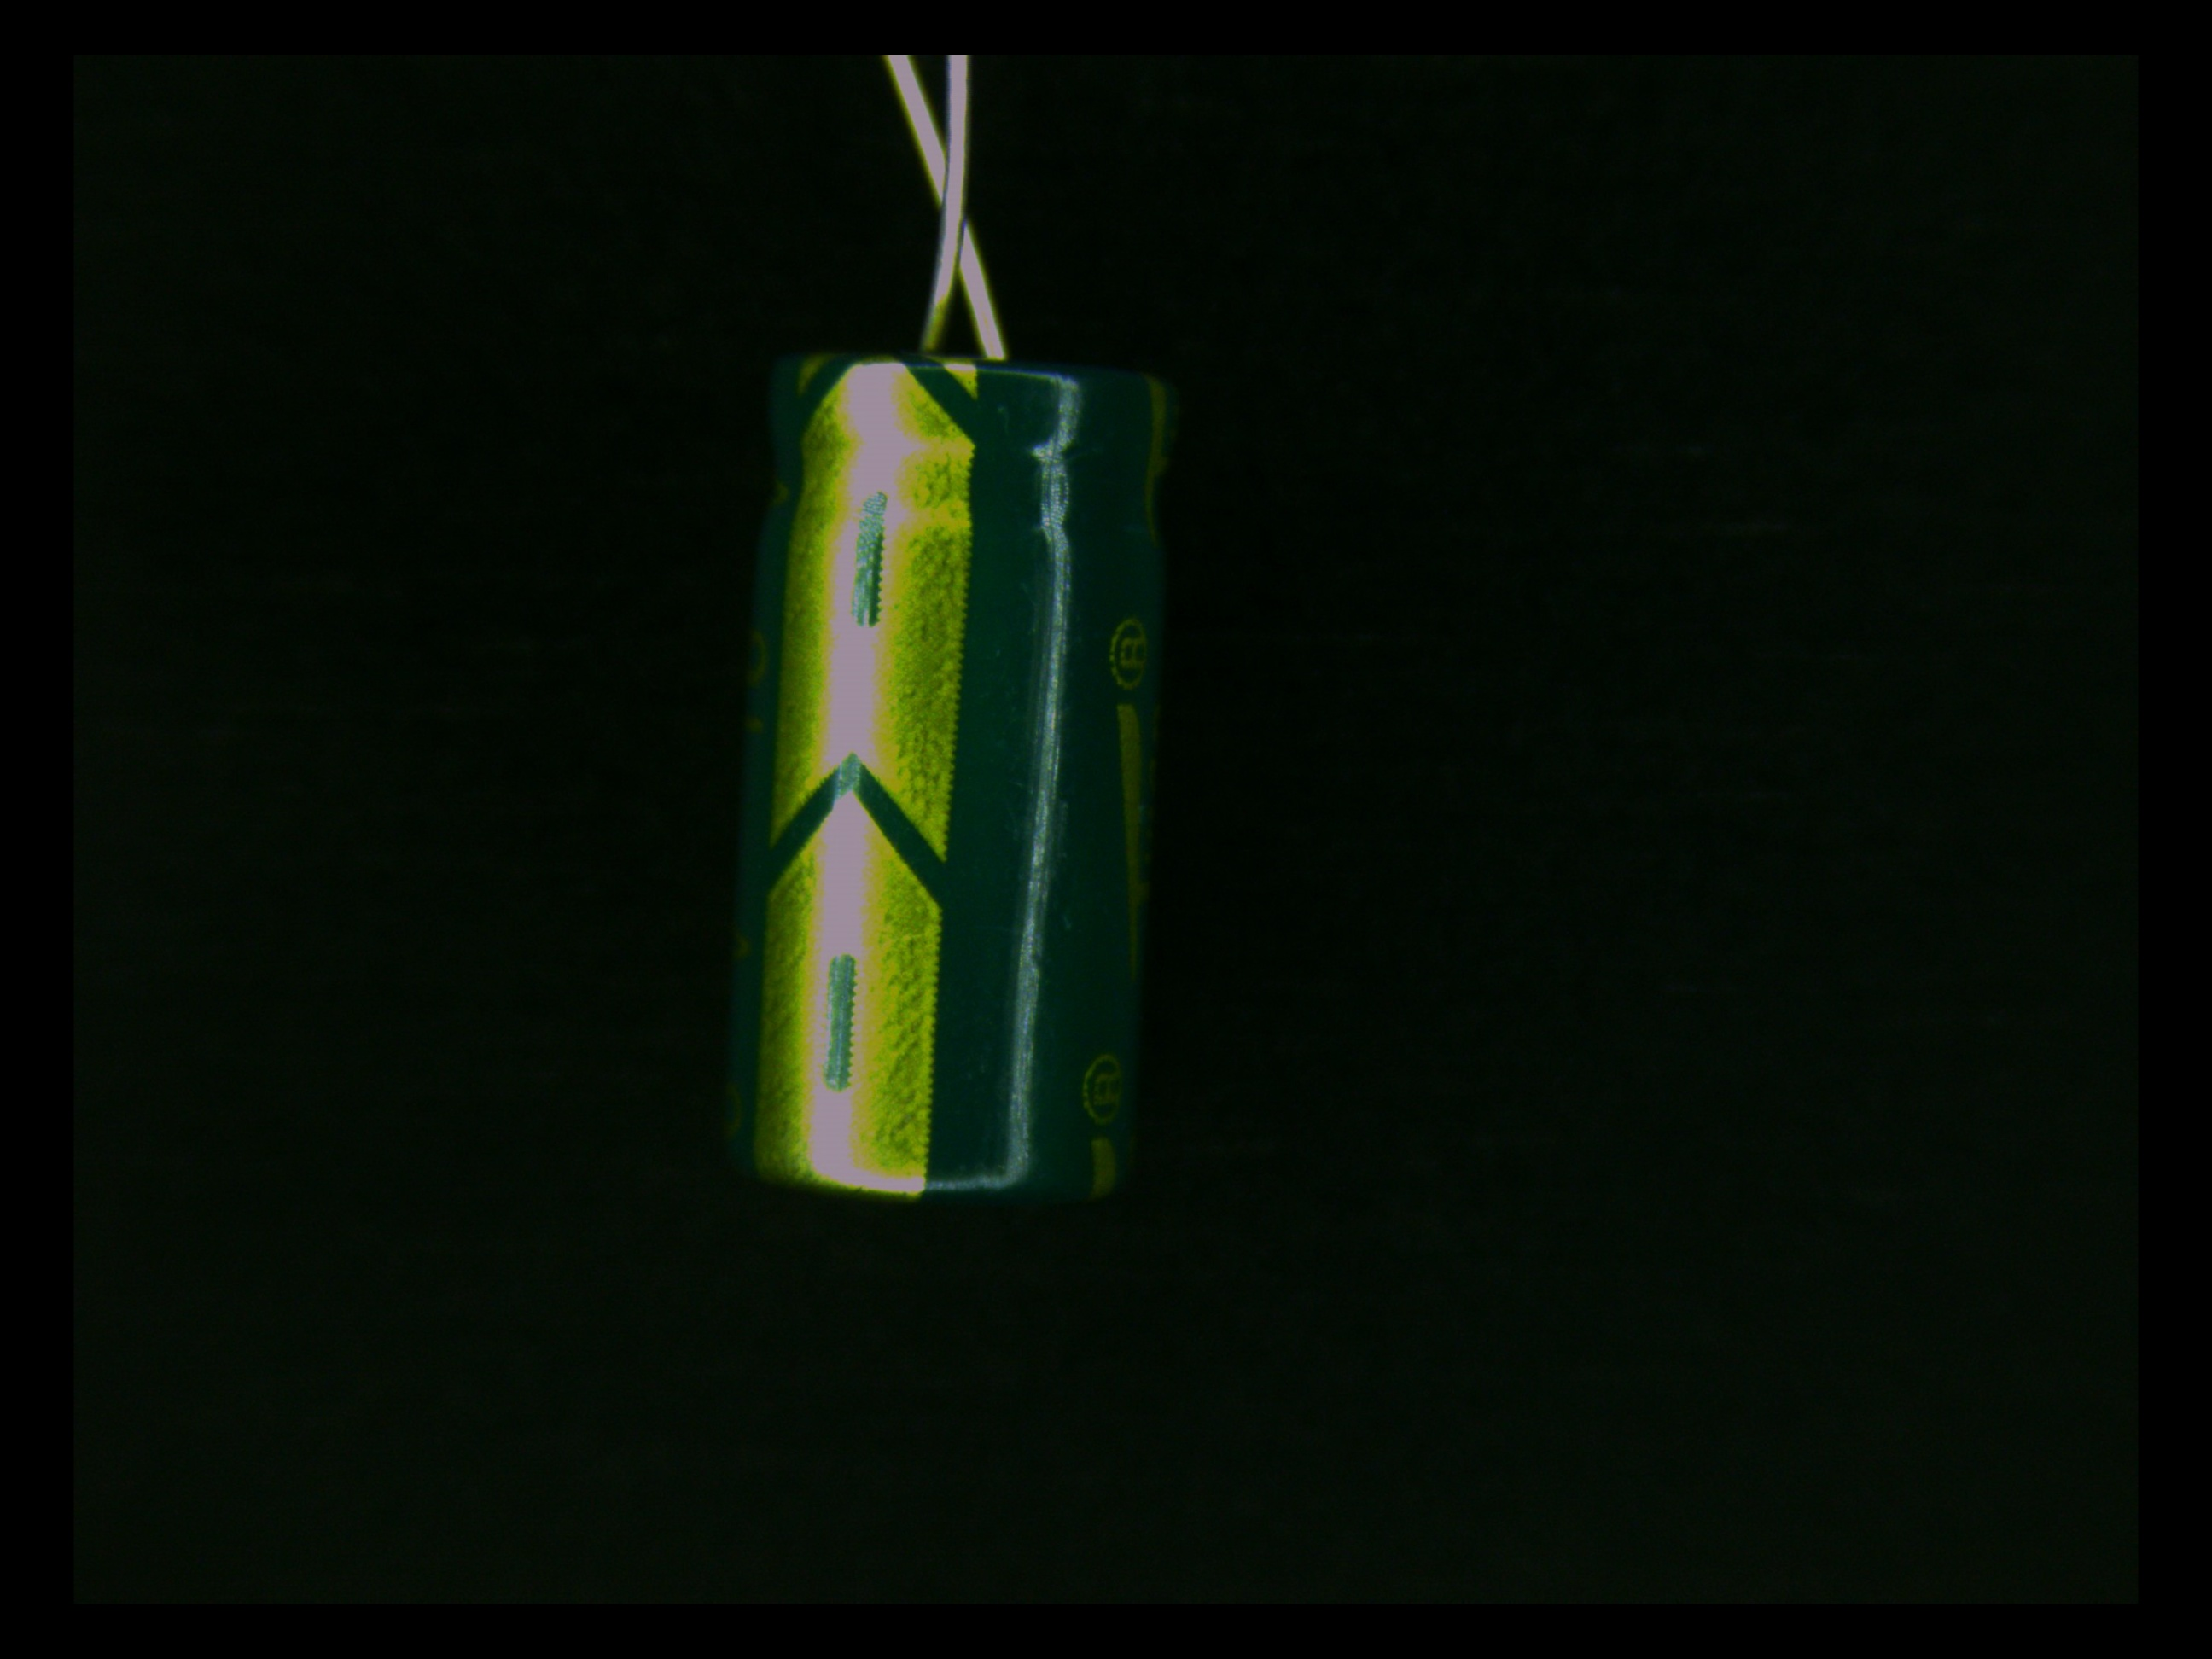c1: (719, 268, 1183, 1204)
